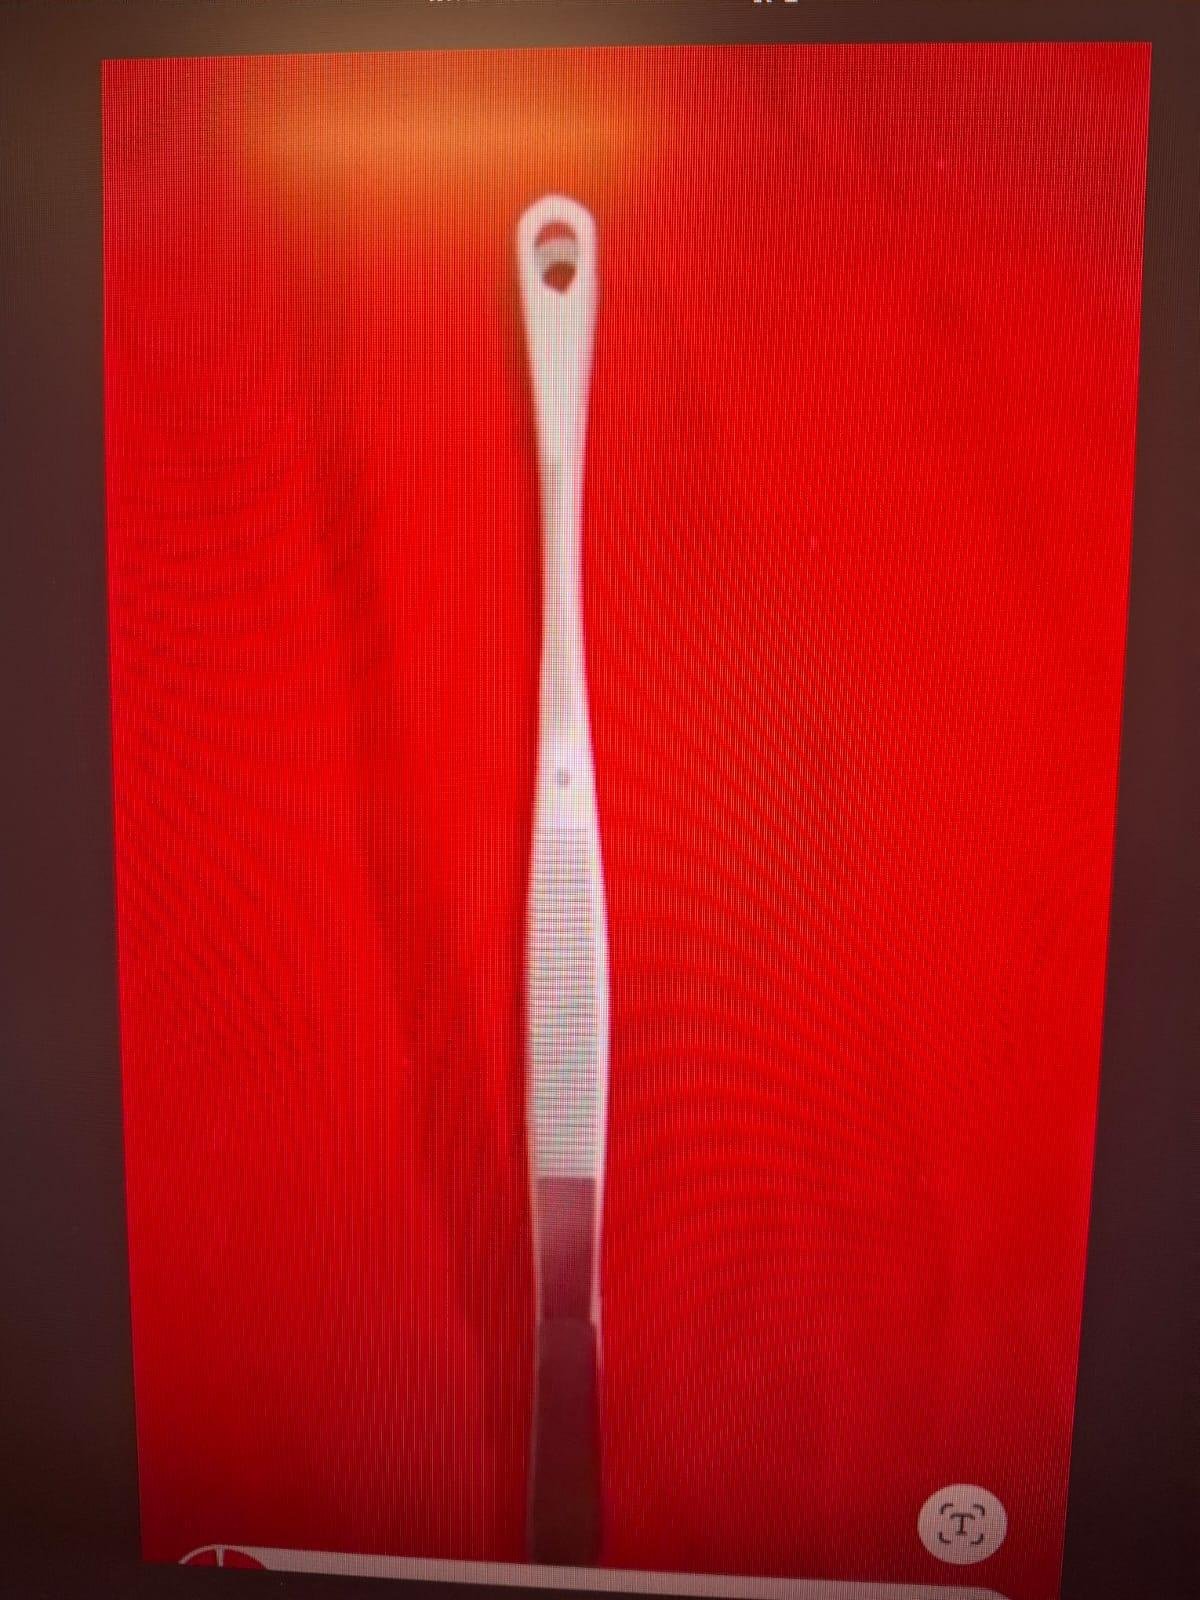Eye Intestinal Forceps: (480, 165, 672, 1580)
